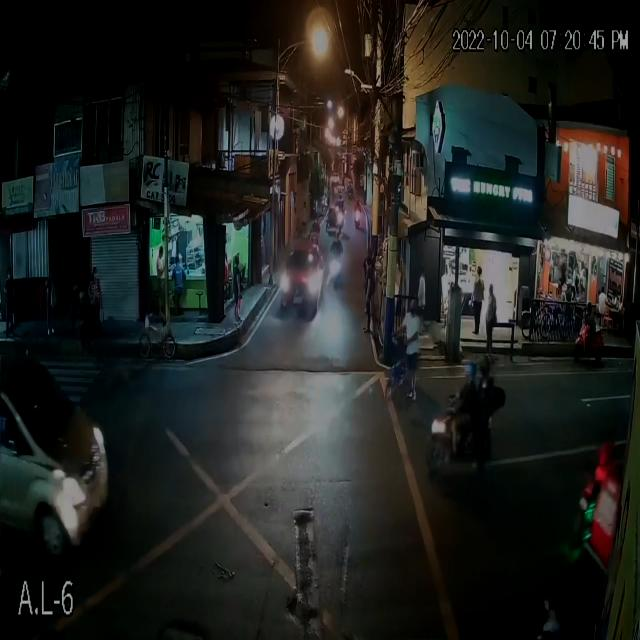Full-Faced: (462, 352, 479, 386), (478, 354, 492, 383)
